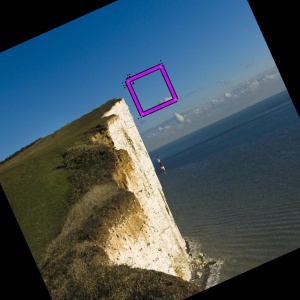square: (120, 62, 183, 118)
